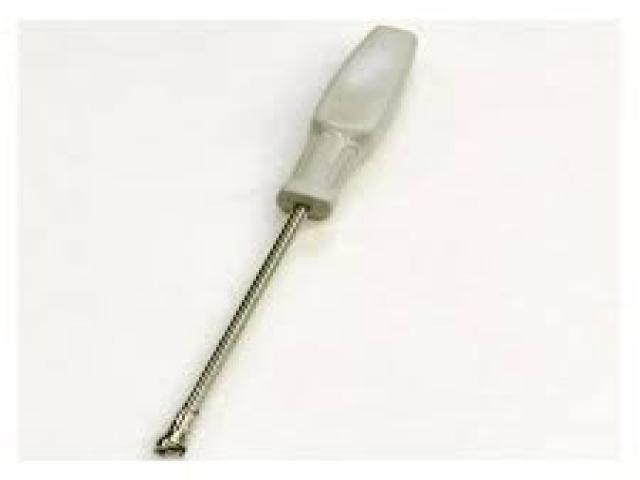Screwdriver: (156, 31, 415, 455)
